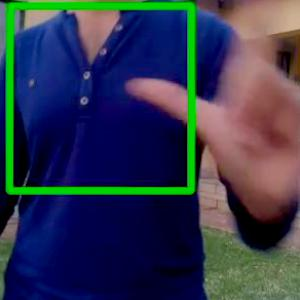land_hand: (123, 0, 300, 223)
